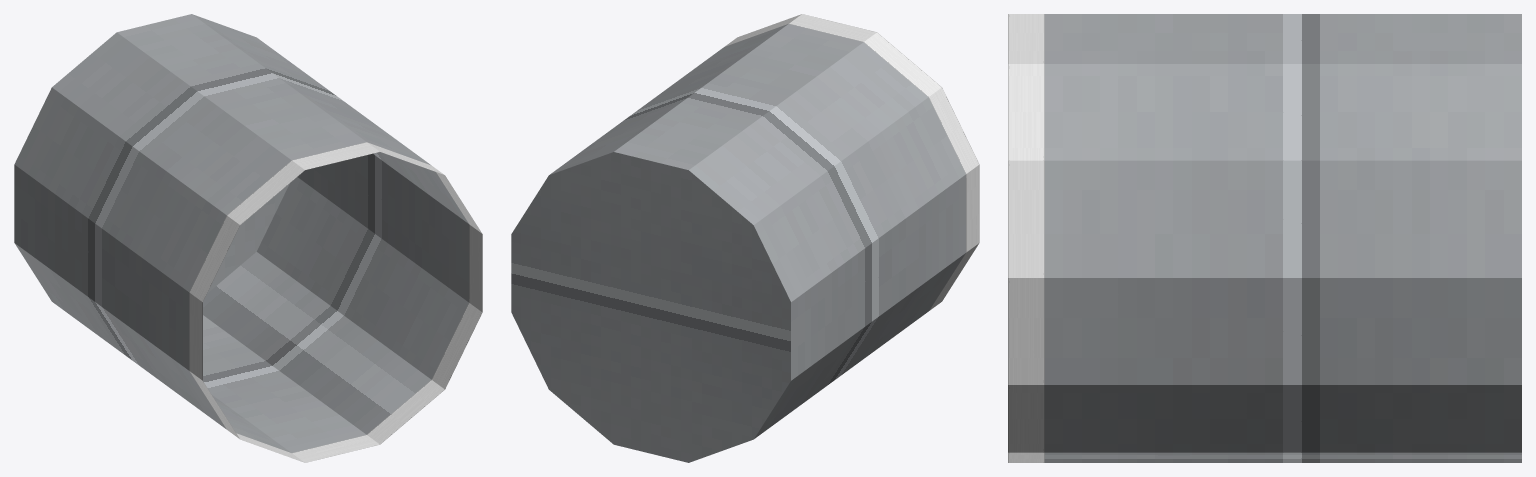
File: connection_8.obj
The picture shows the model from 3 angles, left to right: view 1: azimuth 30°, elevation 25°; view 2: azimuth 150°, elevation 25°; view 3: azimuth 270°, elevation 25°; orthographic projection. The views are drawn at different scales.
Bounding box in the file's own units: 0.75 × 0.75 × 0.875.
